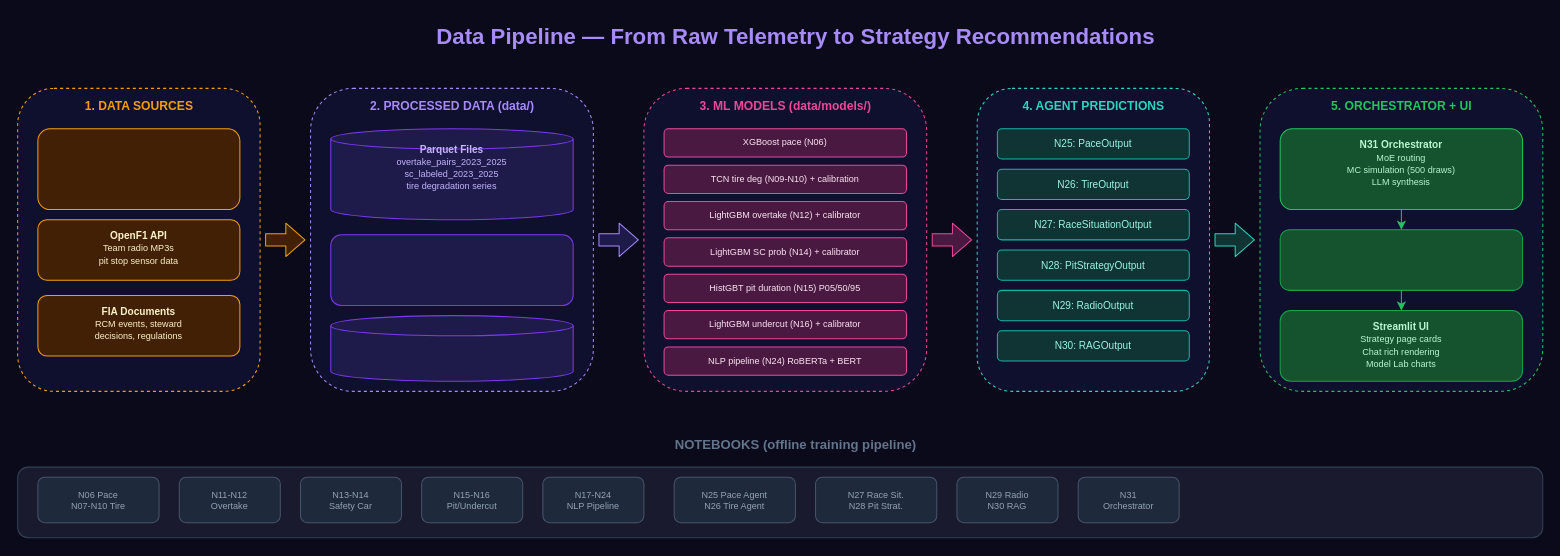
This 1560x556 diagram has some shape labels left out. Here are the shapes that lost their labels. From the top down, the centre of each, then its label:
At (138,169): "FastF1 API Official F1 telemetry 2023-2025 seasons lap, car, weather data".
At (451,270): "Config JSON tire_compounds_by_race encoding_maps model configs".
At (1401,259): "StrategyRecommendation decision, plan, confidence, risk_level, reasoning".
At (451,348): "RAG Corpus Qdrant vectors regulation embeddings".
